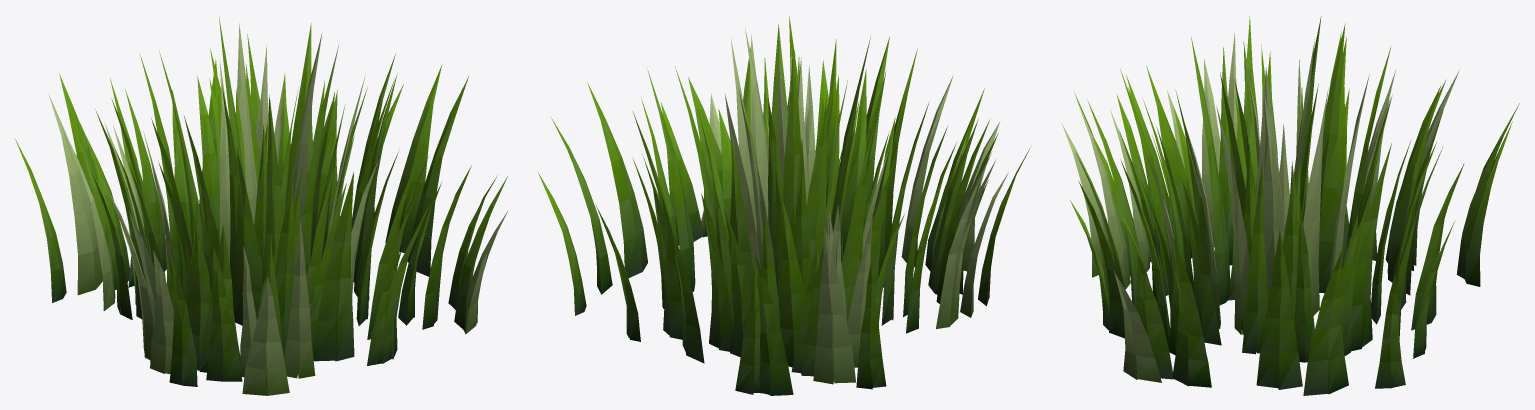
Rendered from vegetasi_grass_moss_699355.glb.
The picture shows the model from 3 angles, left to right: view 1: azimuth 30°, elevation 25°; view 2: azimuth 150°, elevation 25°; view 3: azimuth 270°, elevation 25°; orthographic projection.
Parts seen in each view (by area): view 1: Rumpun_Rumput_Liar; view 2: Rumpun_Rumput_Liar; view 3: Rumpun_Rumput_Liar.
Boxes of the visible parts, x1,y1,x2,y2 form: Rumpun_Rumput_Liar: (15, 17, 508, 395); Rumpun_Rumput_Liar: (537, 16, 1029, 395); Rumpun_Rumput_Liar: (1061, 16, 1519, 395).
Bounding box in the file's own units: 2.98 × 2.05 × 2.99.
